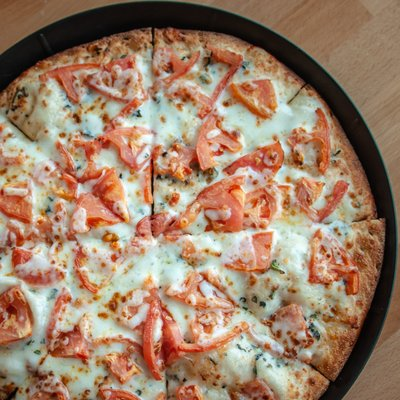curry: (35, 1, 400, 390)
sandwich: (0, 3, 392, 399)
